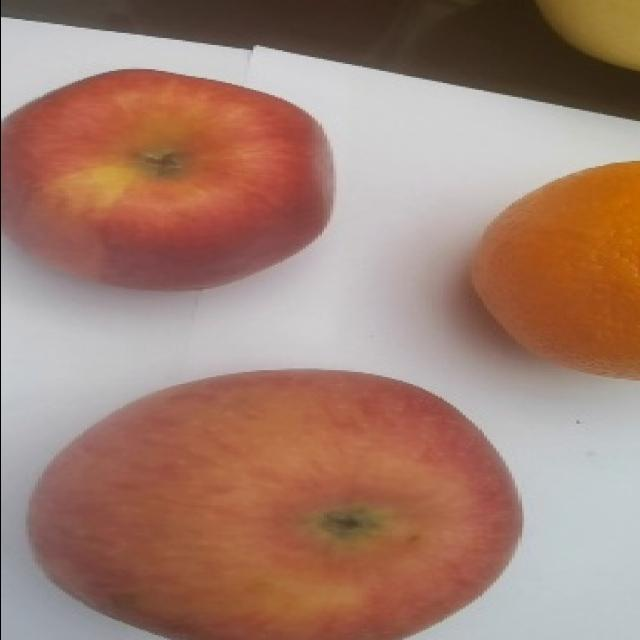Apple: (25, 367, 523, 639), (0, 67, 334, 291)
Orange: (470, 159, 639, 380)
